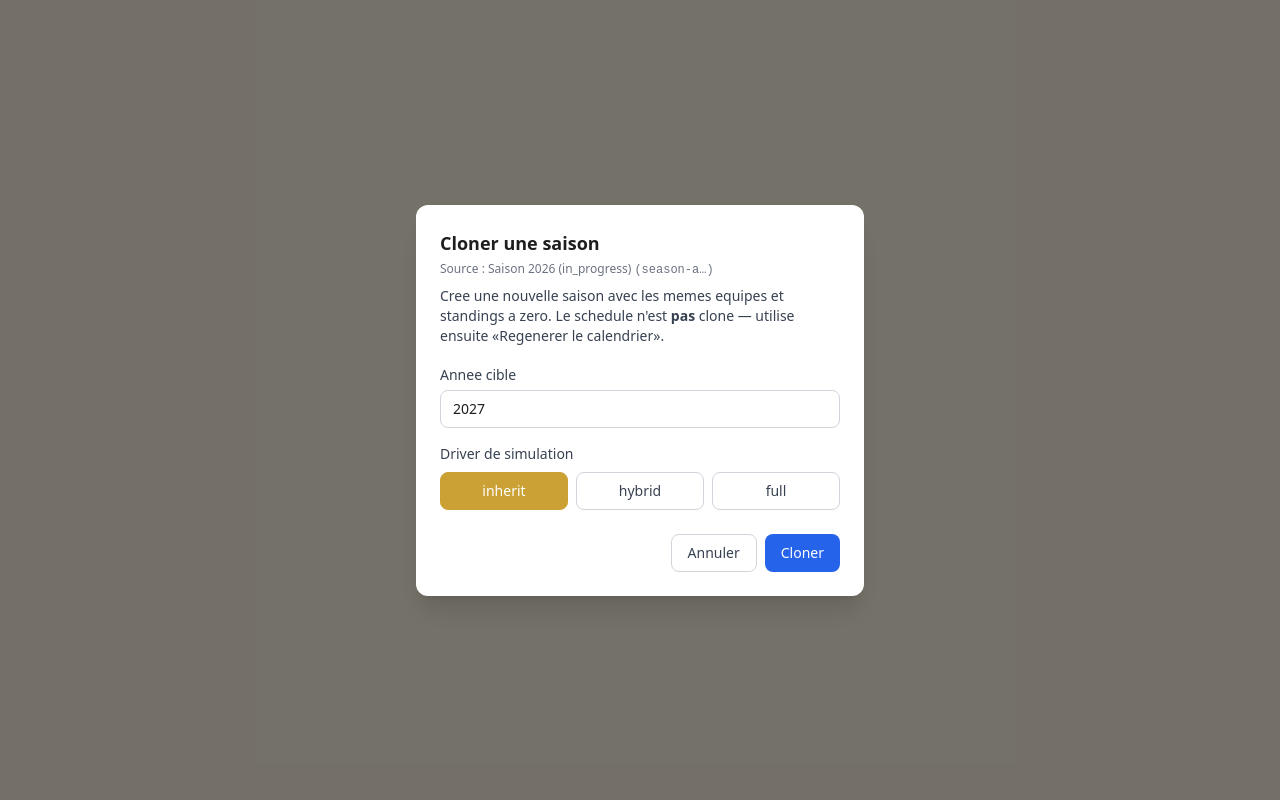
Test case: CloneSeasonModal (Lot P.B.3) › submit disabled si year hors bornes
The image size is (1280, 800).
Replace the text in the number field with test id "clone-year" with "1999" at (640, 408), box [440,390,840,428]
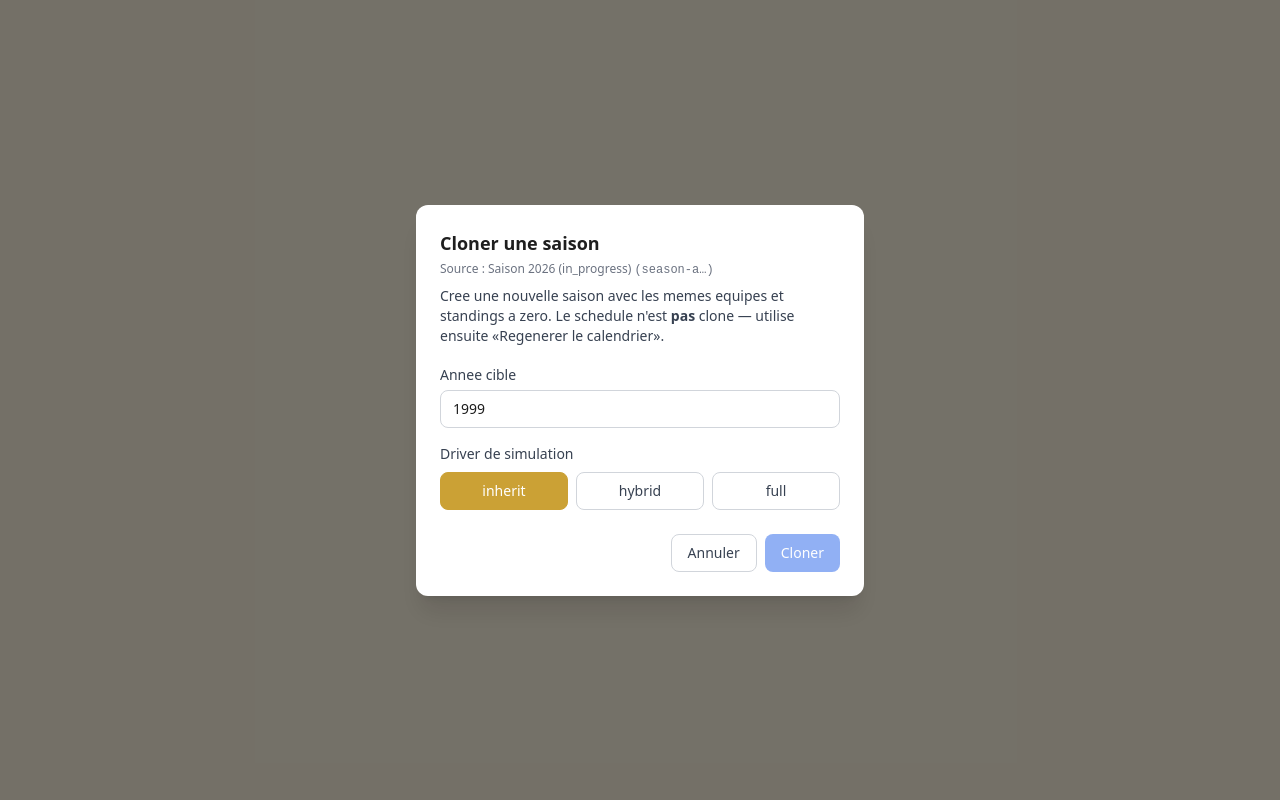
Result: the button with test id "clone-submit" is disabled at [765,534,840,572]
